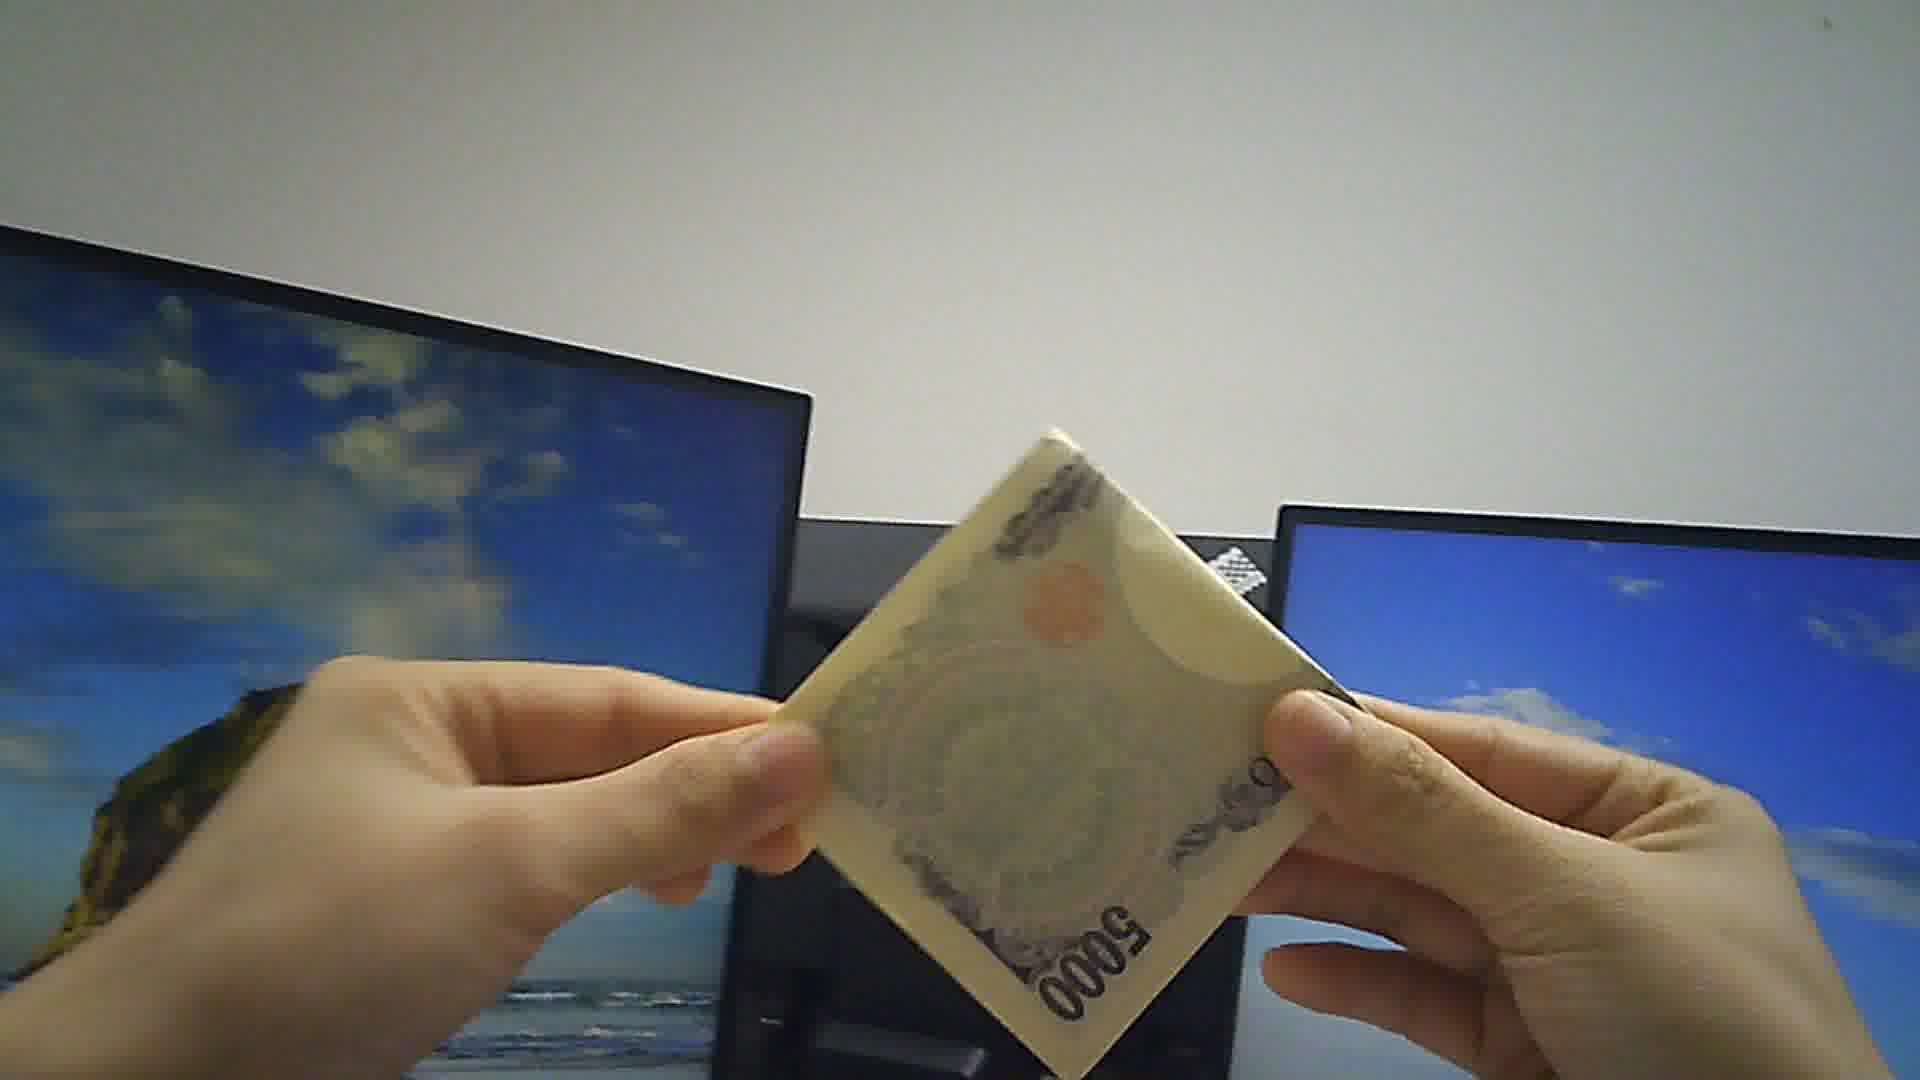5,000 Yen: (749, 423, 1389, 1079)
